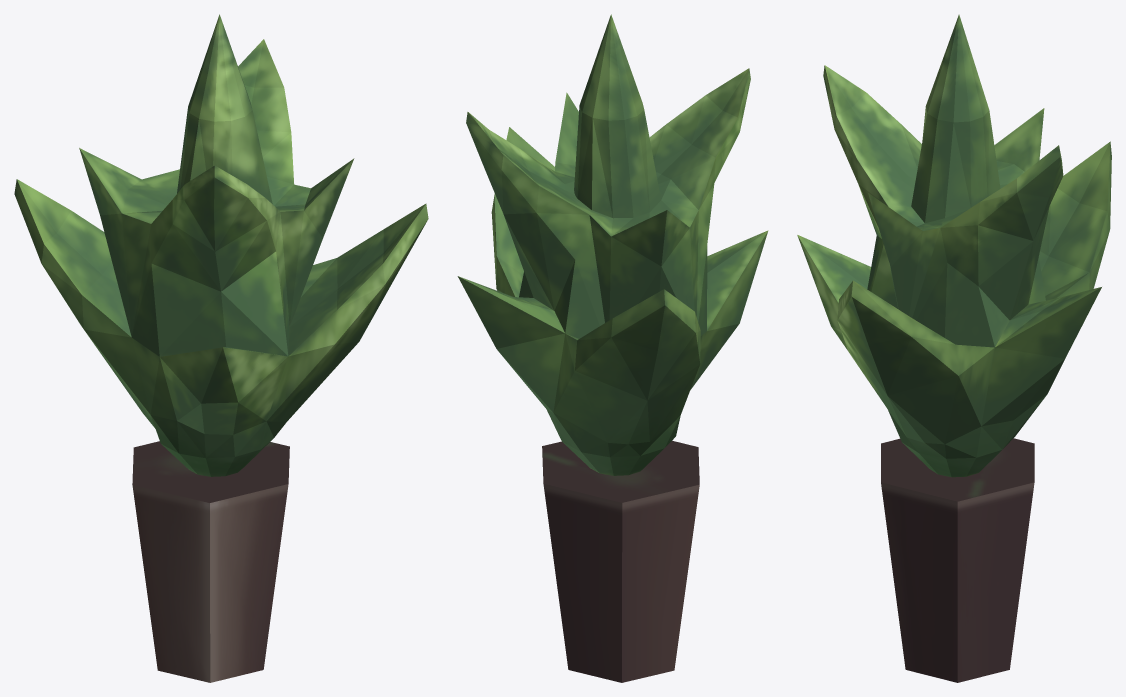
The model's file is Ceshichangji_HuaPen_01.FBX.
The picture shows the model from 3 angles, left to right: view 1: azimuth 30°, elevation 25°; view 2: azimuth 150°, elevation 25°; view 3: azimuth 270°, elevation 25°; orthographic projection.
Parts seen in each view (by area): view 1: Object015; view 2: Object015; view 3: Object015.
Part boxes in pixels (x1,y1,x2,y2): Object015: (14,14,428,682); Object015: (457,14,768,682); Object015: (797,14,1111,682).
Bounding box in the file's own units: 157 × 335 × 148.
